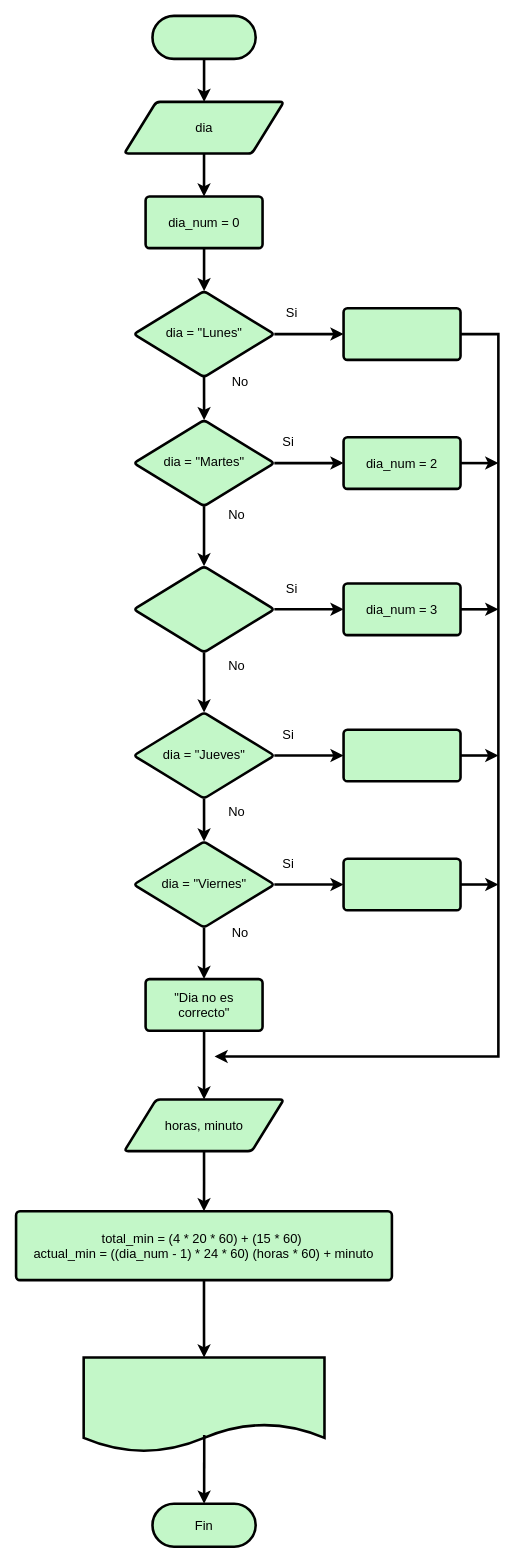
The diagram is 521 pixels wide and 1563 high, and some of its shapes have lost their labels. Each missing label, with the box of its shape:
"Falta " + (total_min - actual_min) + " minutos para llegar al fin de semana": (82, 1356, 325, 1453)
dia = "Miercoles": (132, 565, 275, 653)
dia_num = 1: (342, 307, 461, 361)
dia_num = 4: (342, 728, 461, 782)
dia_num = 5: (342, 857, 461, 911)
Inicio: (151, 14, 257, 60)
